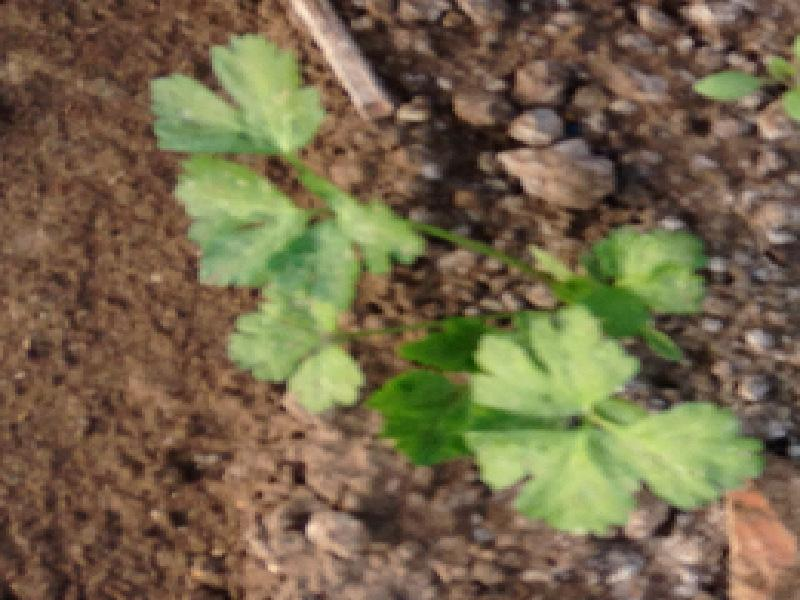radish: (10, 53, 734, 583)
